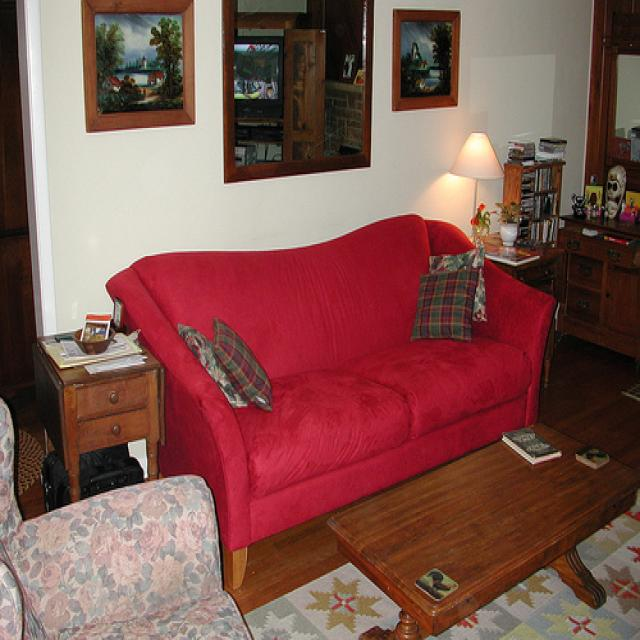chair: (1, 399, 274, 639)
pottedplant: (492, 199, 522, 248)
sofa: (104, 213, 556, 585)
tvmonitor: (233, 35, 287, 122)
